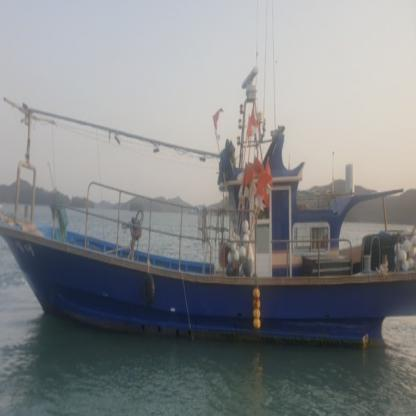fish-b: (0, 61, 416, 356)
